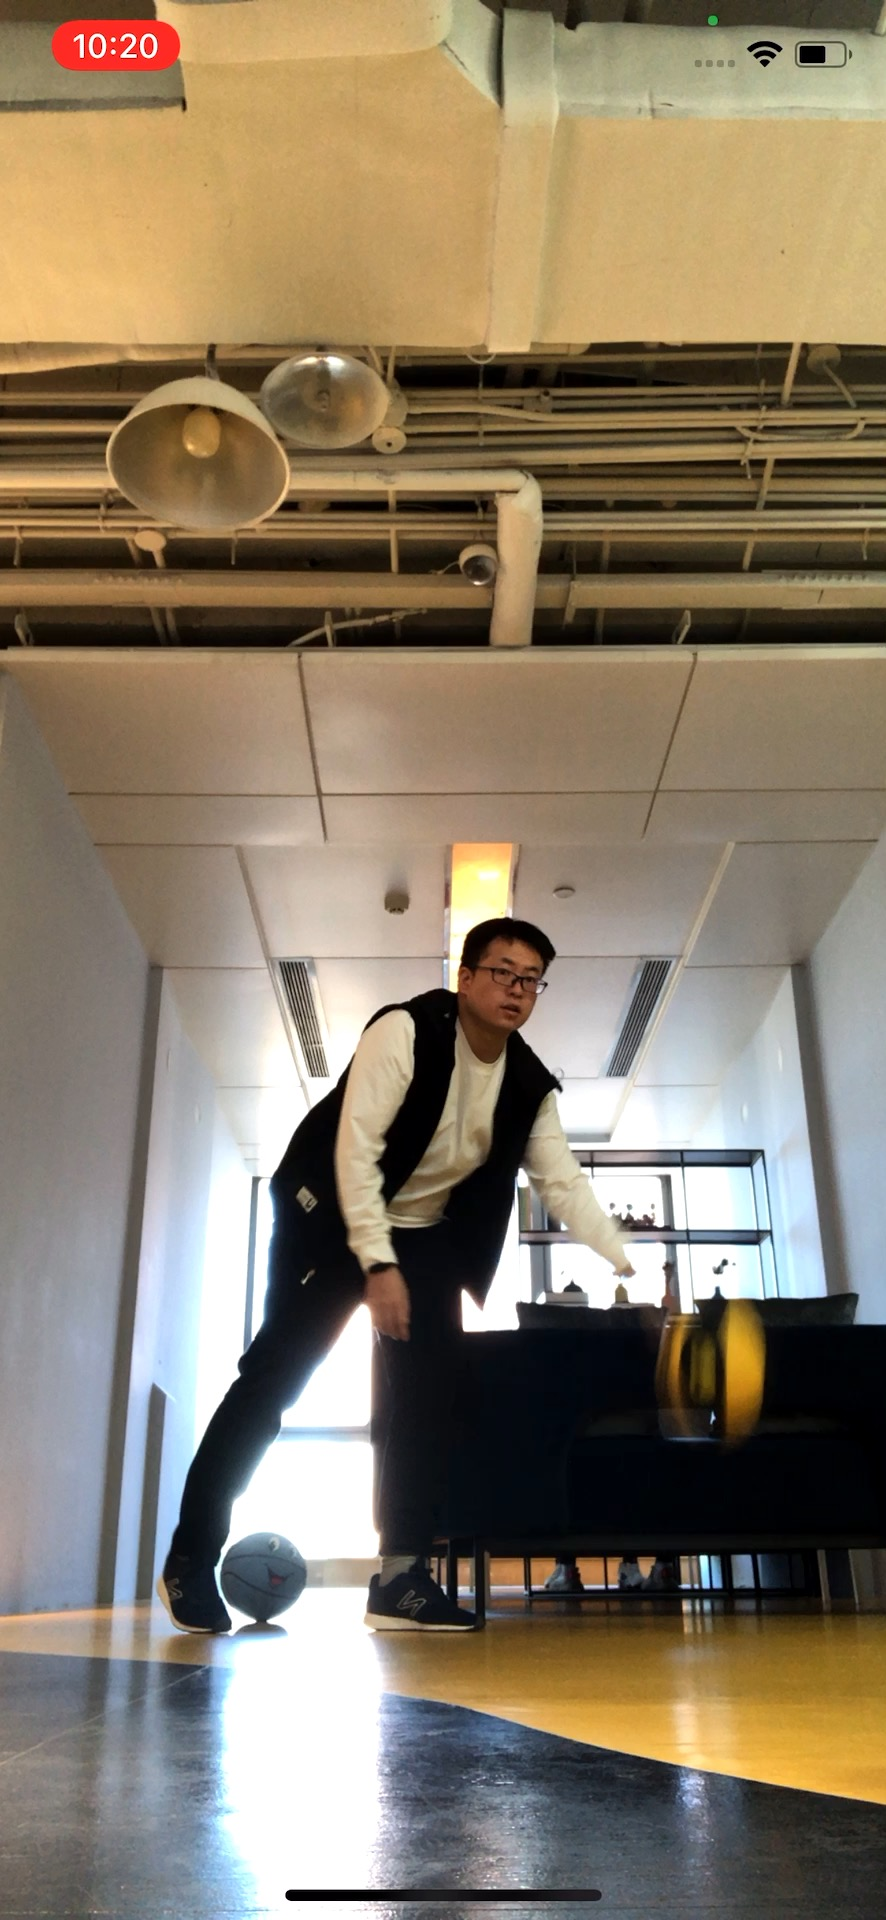ball: (645, 1296, 784, 1455), (221, 1533, 308, 1621)
